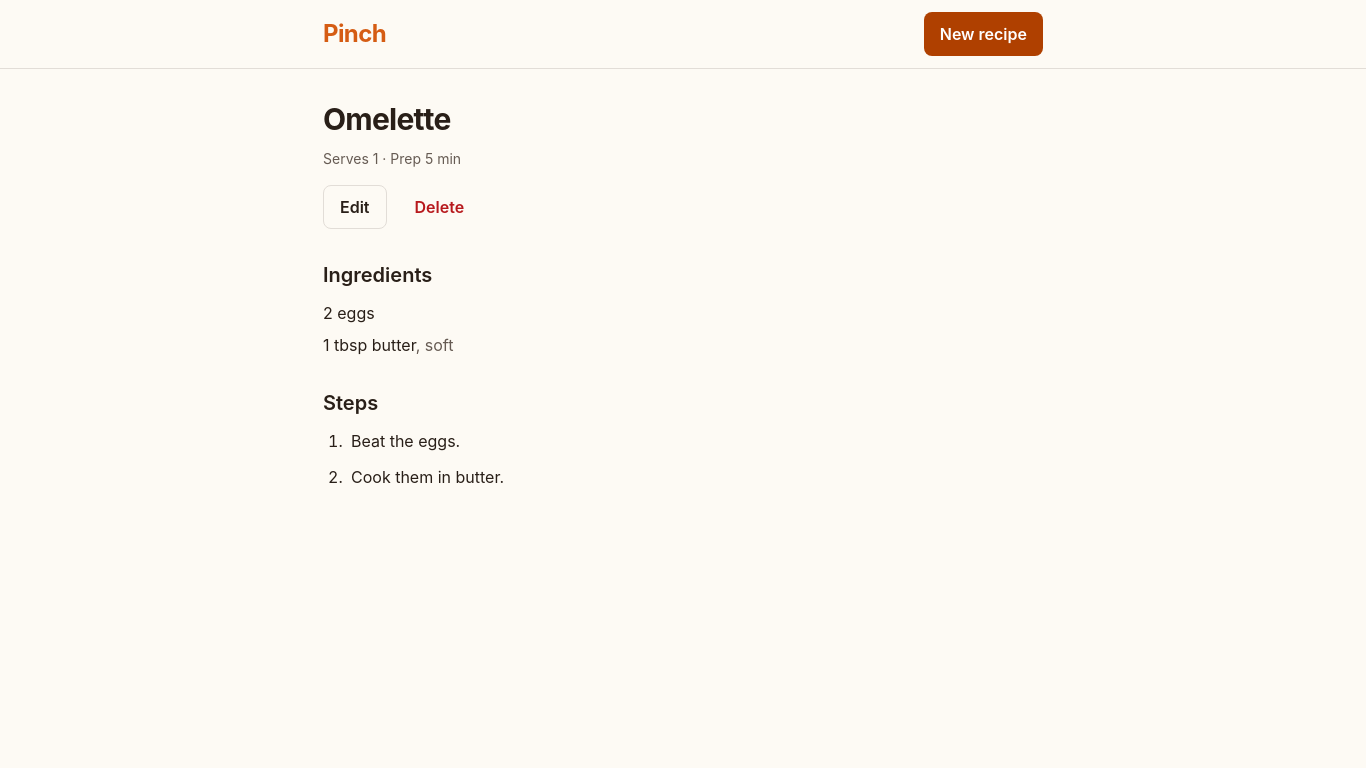
Scenario: Delete asks first, then deletes the recipe and goes back to the list
The width and height of the screenshot is (1366, 768).
Click the button "Delete" at (439, 207), box [398,185,480,229]
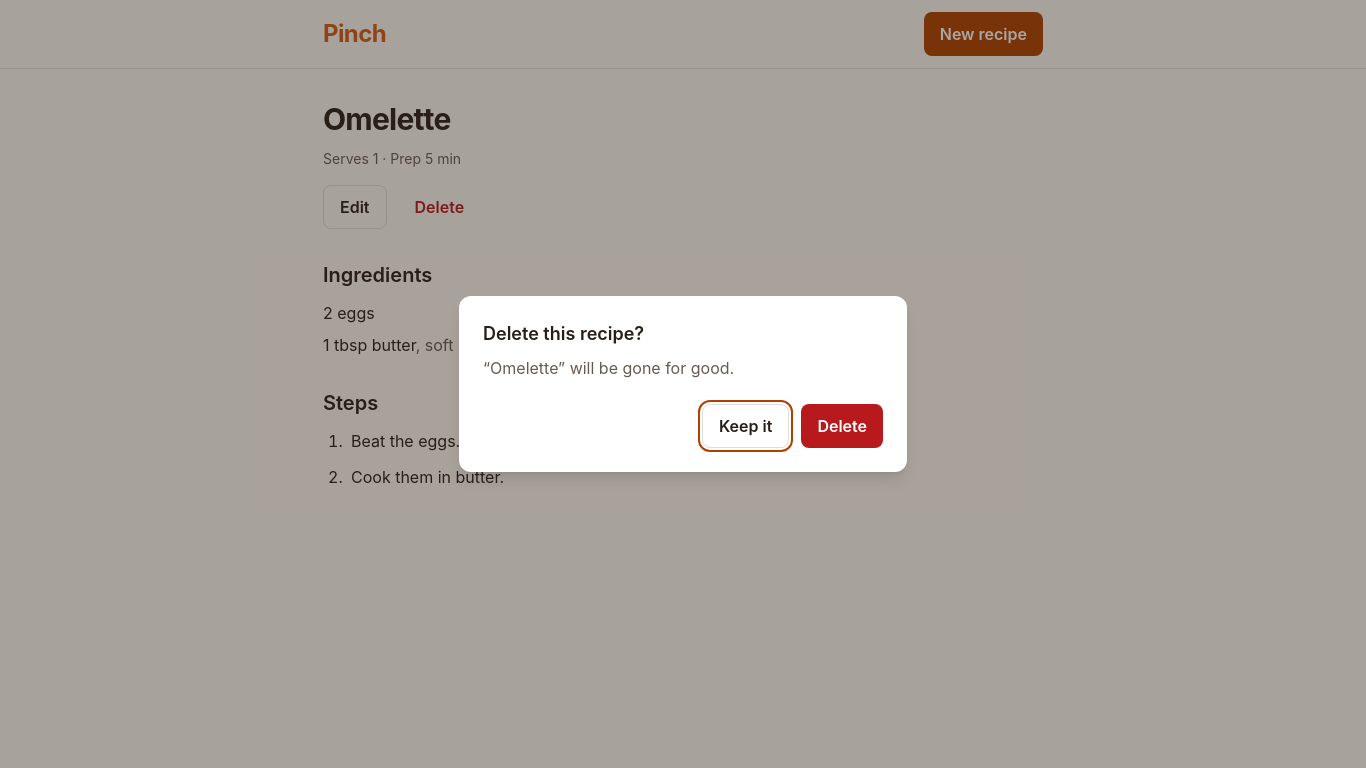
Click the button "Delete" at (842, 426), box [801,404,883,448]
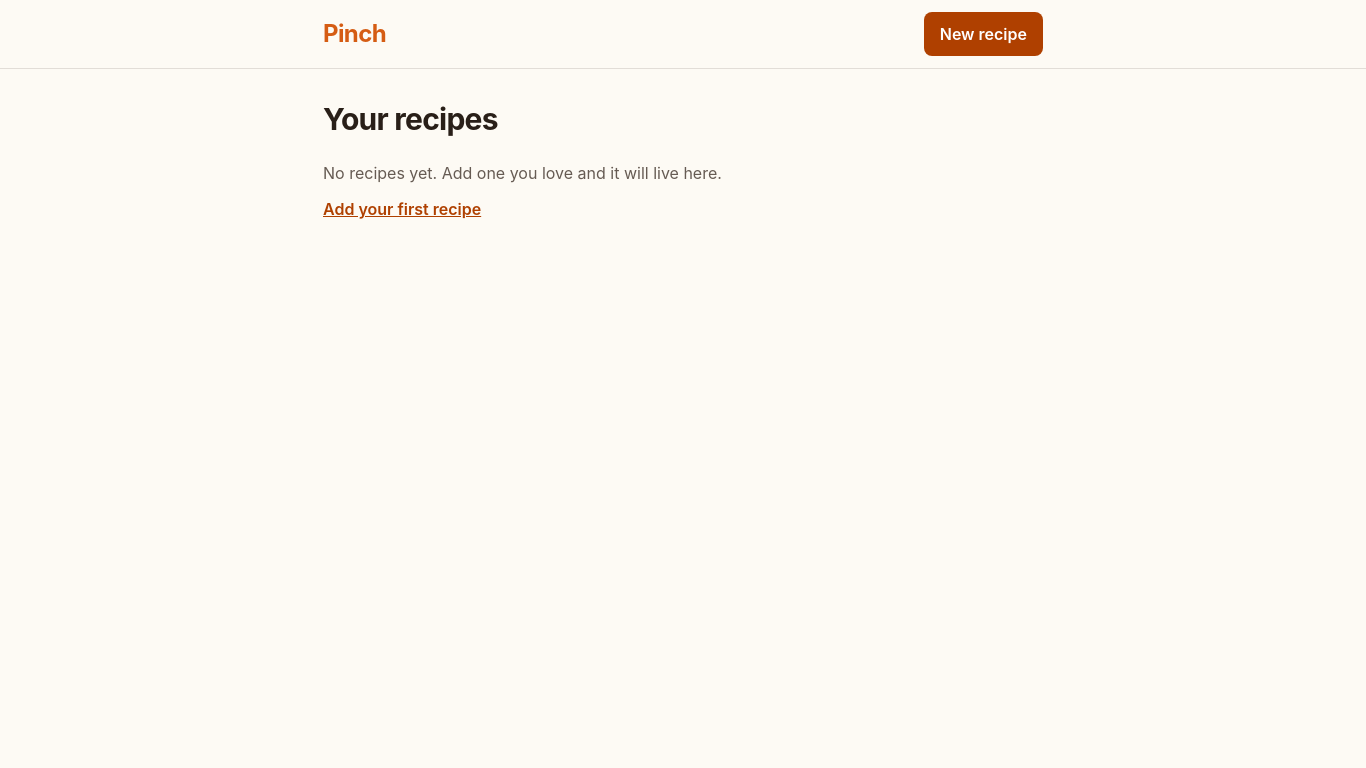
Expected: the heading "Your recipes" is shown, [323,101,498,137]
